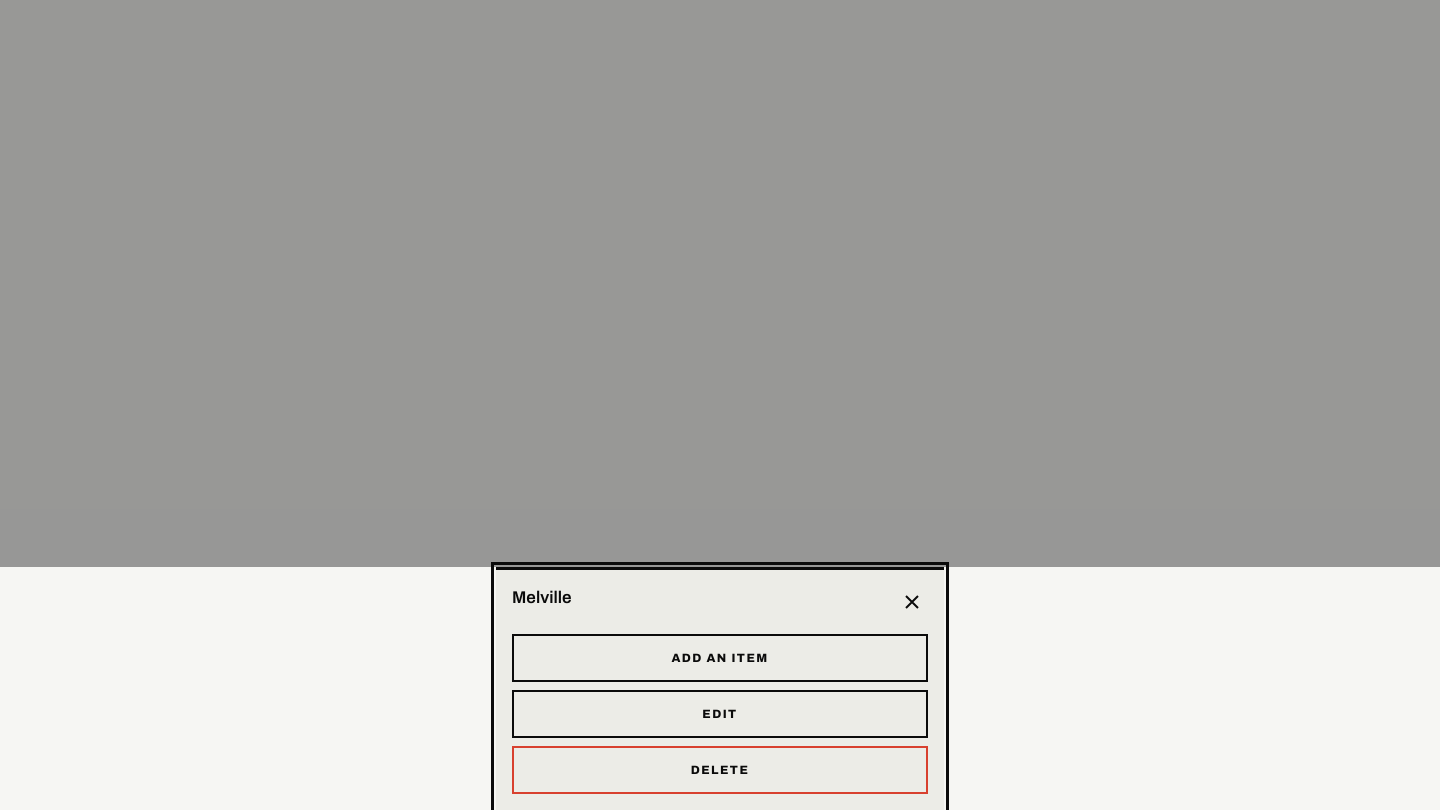
CollectionActionsSheet › does not leave the Book/Film chooser as a one-way door — Back returns to the menu
Click the button "Add an item" at (720, 658), box [512,634,928,682]
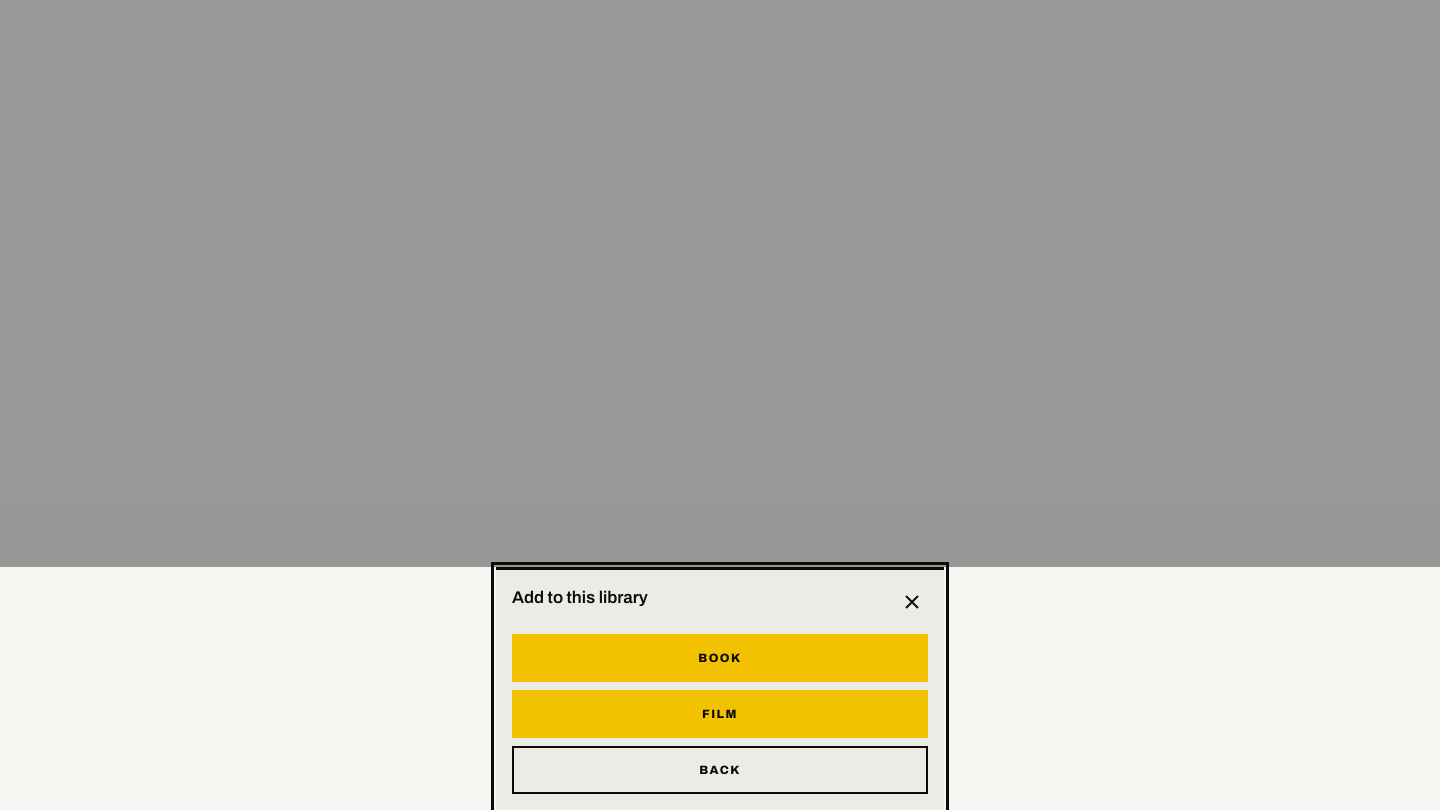
expect the button "Book" is shown: met, box [512,634,928,682]
Click the button "Back" at (720, 770), box [512,746,928,794]
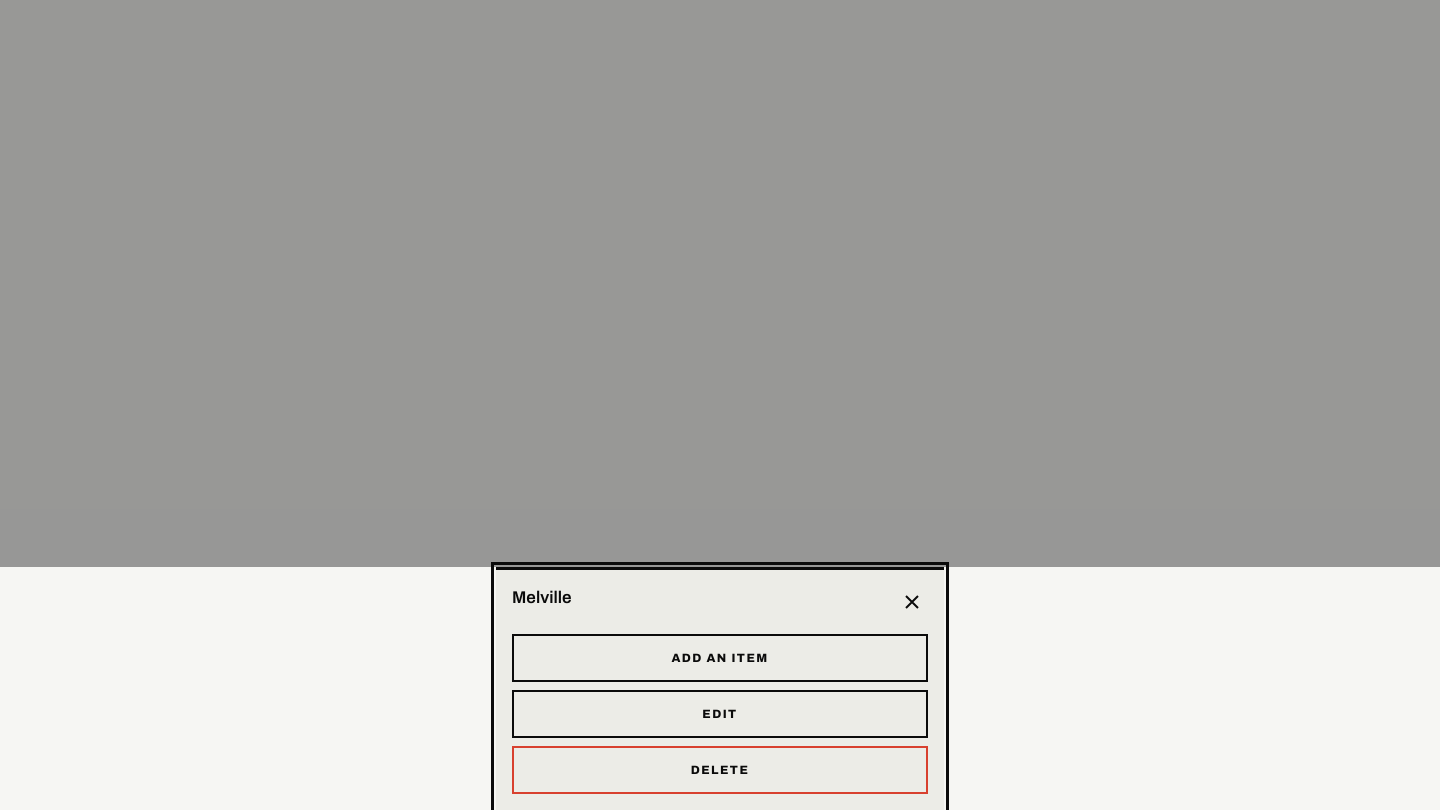
expect the button "Edit" is shown: met, box [512,690,928,738]
